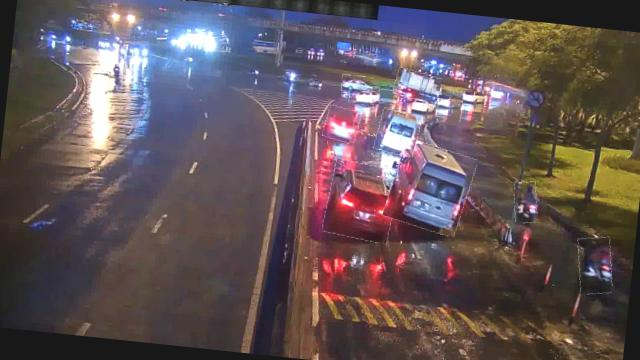Bike: (574, 235, 615, 295), (512, 181, 540, 224), (108, 62, 124, 86)
Bus: (384, 140, 476, 236), (374, 109, 420, 157)
Car: (324, 160, 401, 244), (323, 105, 361, 143), (348, 85, 382, 107), (341, 74, 374, 94)
Truck: (394, 68, 444, 104)
